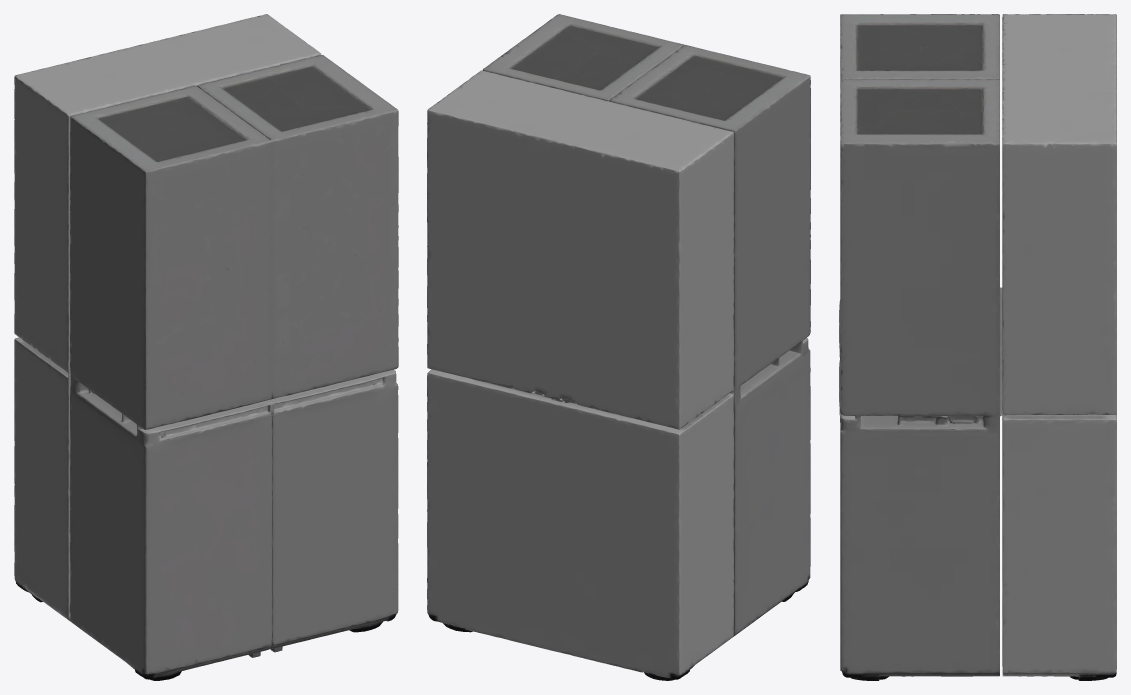
The model's file is 02_refrigerator_1.glb.
3 renders of one model, left to right at view 1: azimuth 30°, elevation 25°; view 2: azimuth 150°, elevation 25°; view 3: azimuth 270°, elevation 25°, orthographic. The views are drawn at different scales.
Parts seen in each view (by area): view 1: world; view 2: world; view 3: world.
Part boxes in pixels (<box>): world: <box>14,14,398,680</box>; world: <box>427,14,810,680</box>; world: <box>839,14,1116,680</box>.
Size of the model in its own units: 0.513 by 1 by 0.4643.
1 material, 1 textured.
